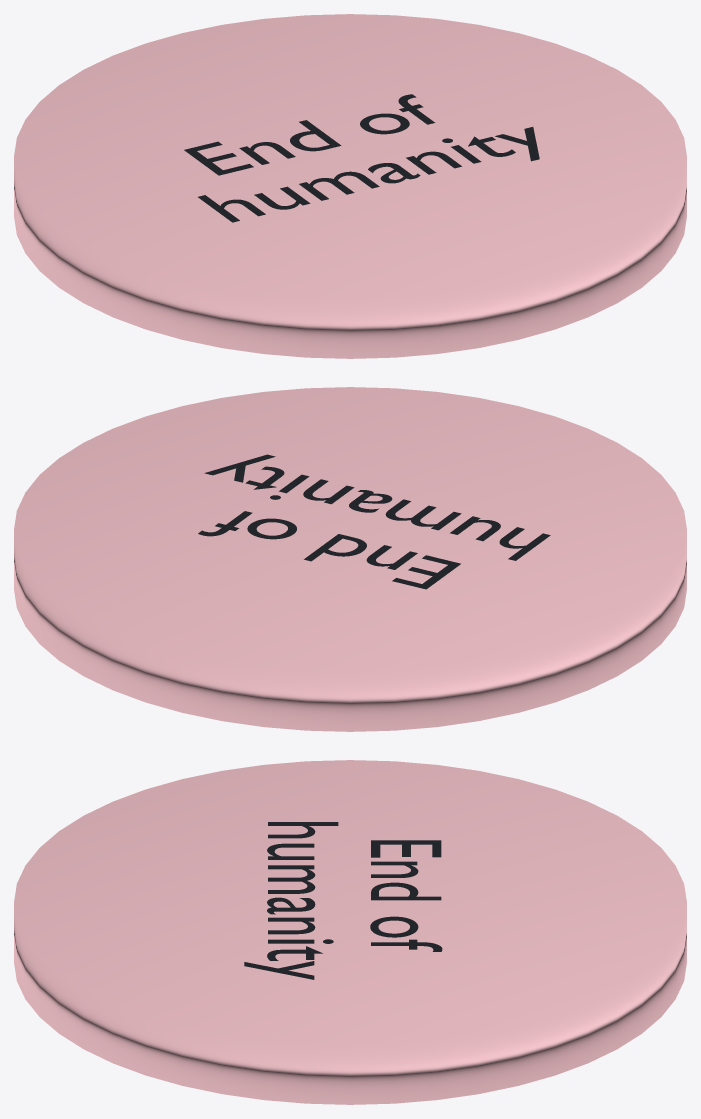
Rendered from end.glb.
The picture shows the model from 3 angles, top to bottom: view 1: azimuth 30°, elevation 25°; view 2: azimuth 150°, elevation 25°; view 3: azimuth 270°, elevation 25°; orthographic projection.
Visible parts, largest first — view 1: Cylinder, Text.003; view 2: Cylinder, Text.003; view 3: Cylinder, Text.003.
Boxes of the visible parts, <box> form: Cylinder: <box>14,14,686,358</box>; Text.003: <box>184,94,539,222</box>; Cylinder: <box>14,387,686,731</box>; Text.003: <box>198,454,550,589</box>; Cylinder: <box>14,760,686,1104</box>; Text.003: <box>244,822,442,979</box>.
Size of the model in its own units: 2 by 0.2068 by 2.
